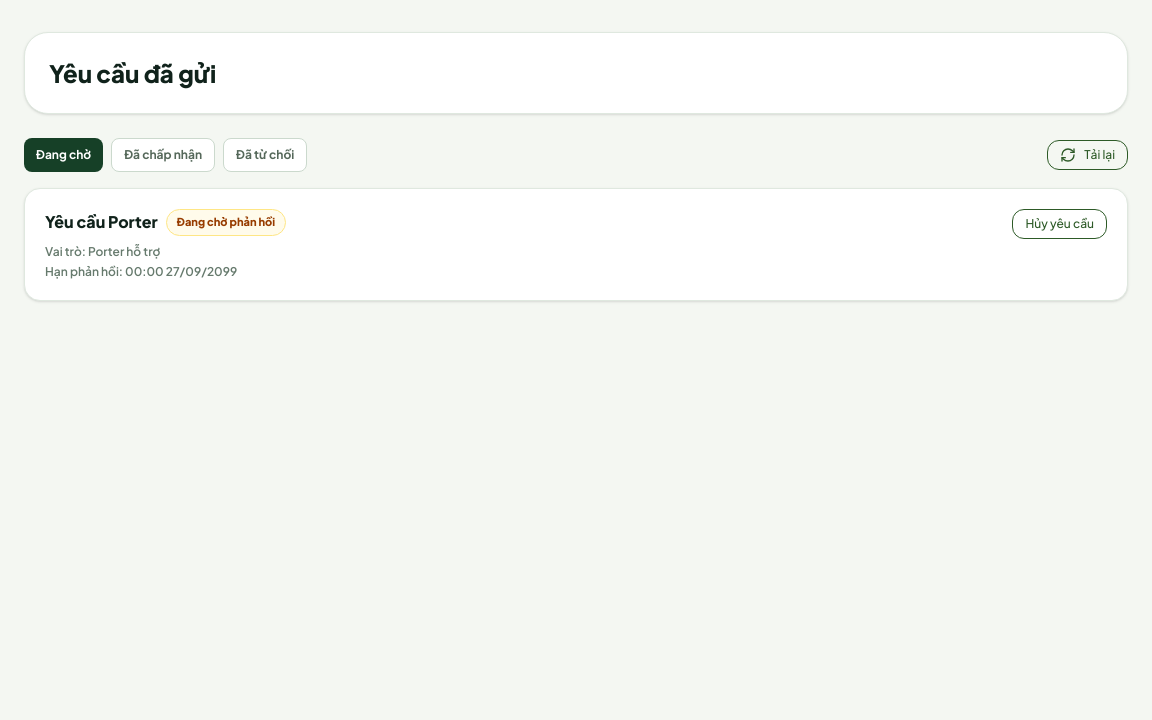
HostPorterRequestsPage › cancels a pending request after confirmation and refreshes its state
The width and height of the screenshot is (1152, 720).
Click the button "Hủy yêu cầu": (1060, 224) [1012,209,1107,239]
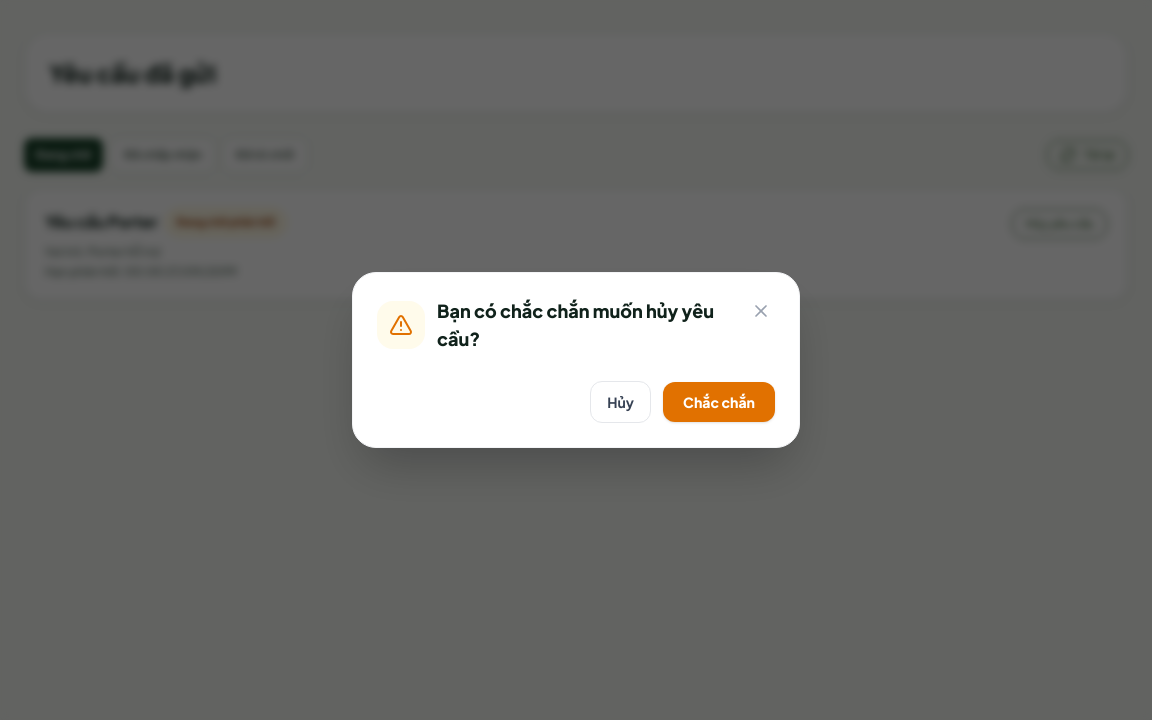
Click the button with test id "confirm-modal-submit": (719, 402) [663,382,775,422]
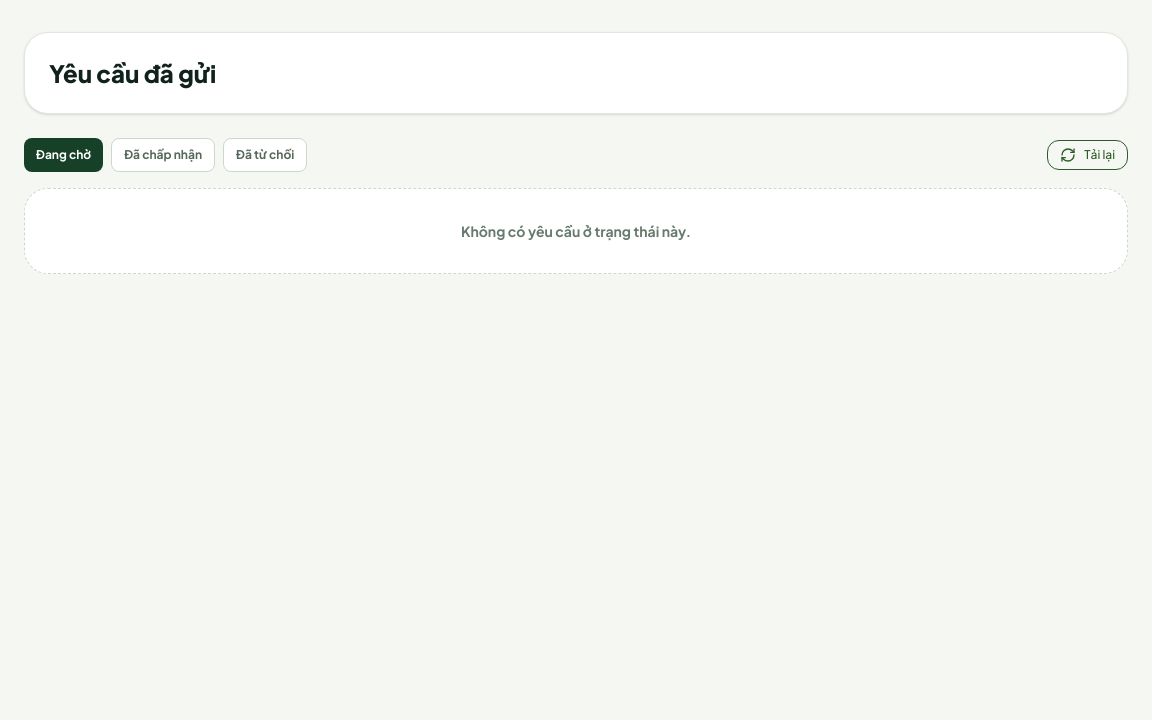
Check: the element with test id "confirm-modal" is gone
Check: the text "Không có yêu cầu ở trạng thái này." is shown, box [24,188,1128,274]
